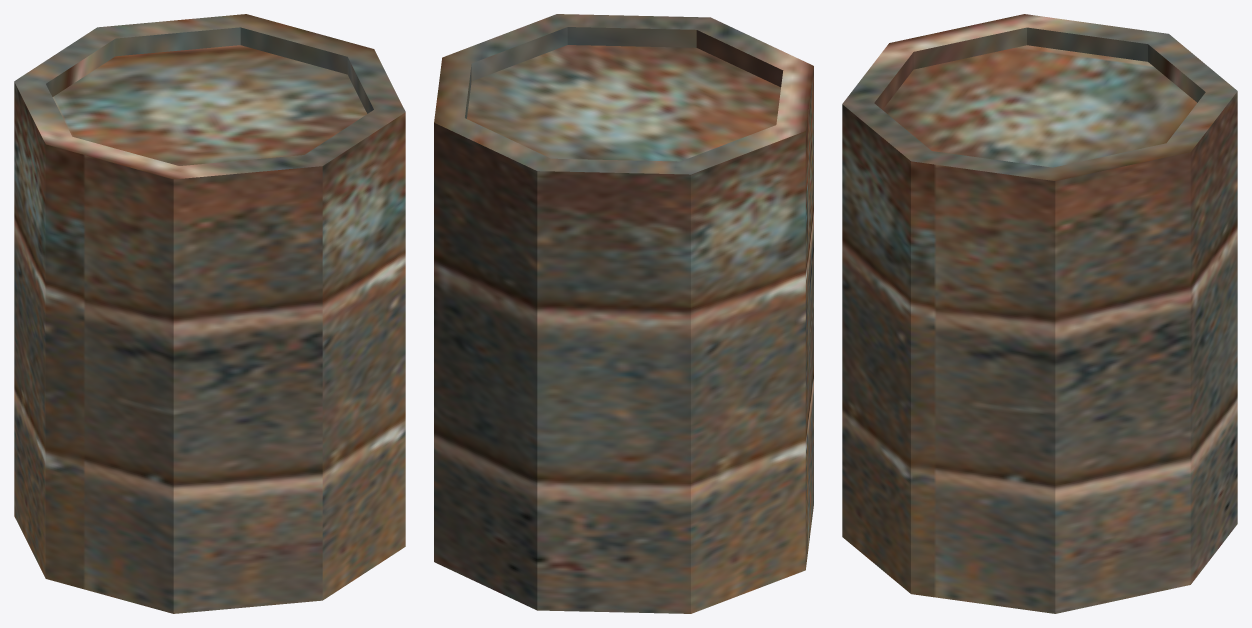
Rendered from rusty barrel.fbx.
The picture shows the model from 3 angles, left to right: view 1: azimuth 30°, elevation 25°; view 2: azimuth 150°, elevation 25°; view 3: azimuth 270°, elevation 25°; orthographic projection.
Visible parts, largest first — view 1: rust barrel; view 2: rust barrel; view 3: rust barrel.
Part boxes in pixels (<box>): rust barrel: <box>14,14,405,613</box>; rust barrel: <box>434,14,813,613</box>; rust barrel: <box>842,14,1237,613</box>.
Bounding box in the file's own units: 96.54 × 117 × 96.54.
1 material, 1 textured.
